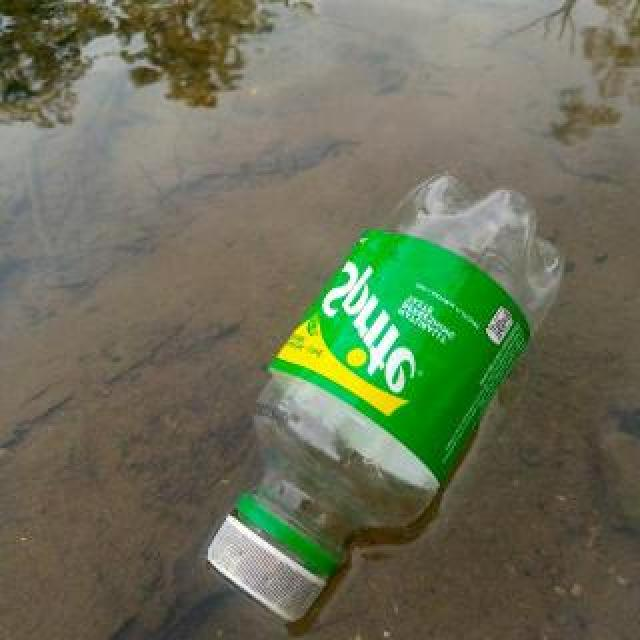Bottle: (204, 173, 568, 626)
